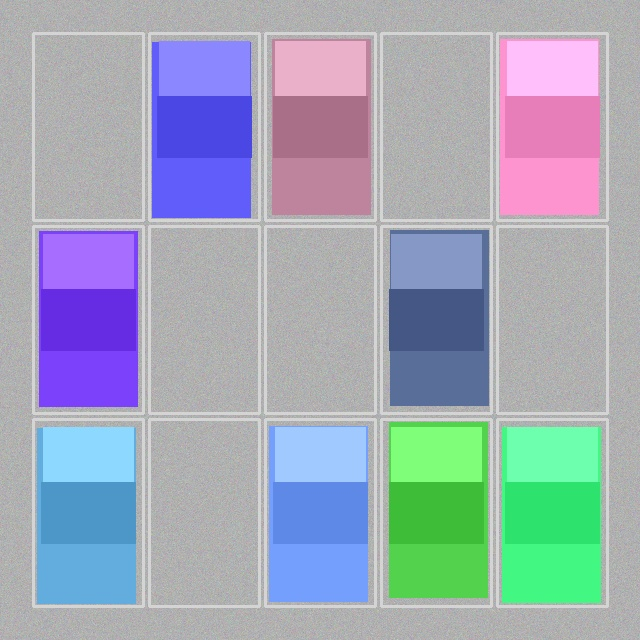space-empty: (35, 35, 141, 218), (383, 35, 489, 218), (151, 228, 257, 411), (267, 228, 373, 411), (499, 228, 605, 411), (151, 421, 257, 604)
space-occupied: (151, 35, 257, 218), (267, 35, 373, 218), (499, 35, 605, 218), (35, 228, 141, 411), (383, 228, 489, 411), (35, 421, 141, 604), (267, 421, 373, 604), (383, 421, 489, 604), (499, 421, 605, 604)
